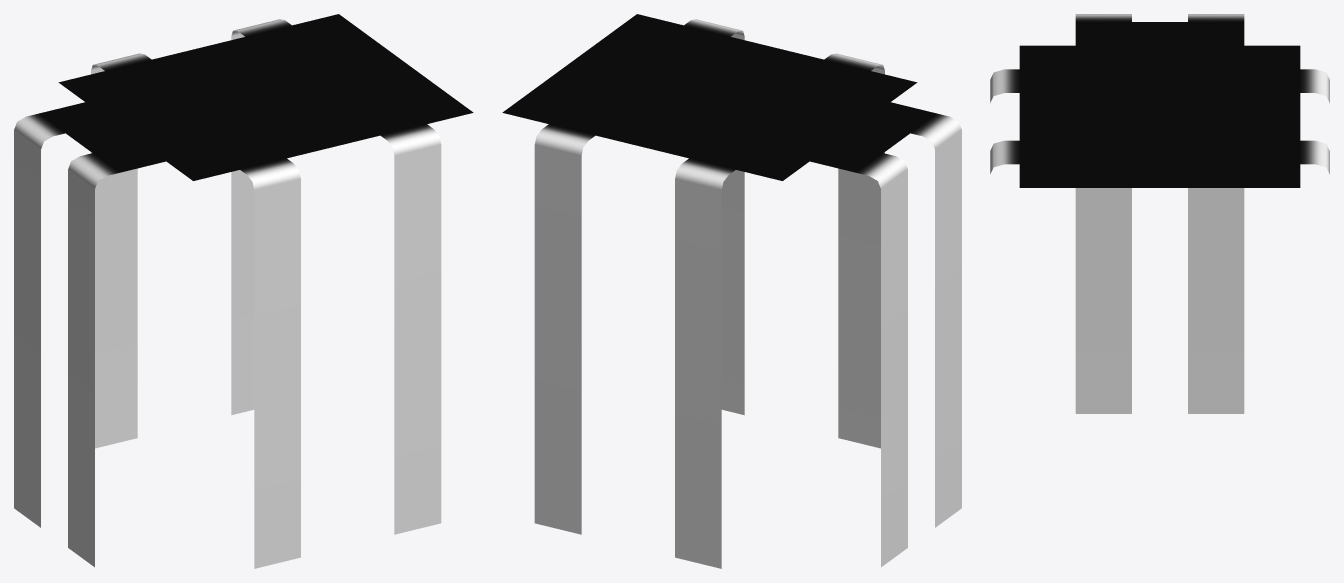
File: sandRoom2Water_MESH.fbx
The picture shows the model from 3 angles, left to right: view 1: azimuth 30°, elevation 25°; view 2: azimuth 150°, elevation 25°; view 3: azimuth 270°, elevation 25°; orthographic projection. The views are drawn at different scales.
Parts seen in each view (by area): view 1: sandRoom2; view 2: sandRoom2; view 3: sandRoom2.
Part boxes in pixels (x1,y1,x2,y2): sandRoom2: (14,14,473,568); sandRoom2: (502,14,961,568); sandRoom2: (990,14,1329,413).
Bounding box in the file's own units: 7.52 × 7.95 × 6.05.
